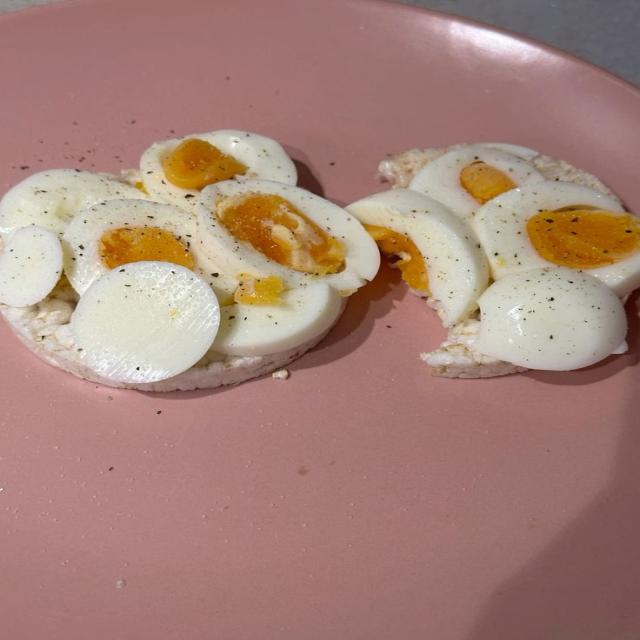eggs: (22, 142, 357, 376), (380, 138, 627, 422)
